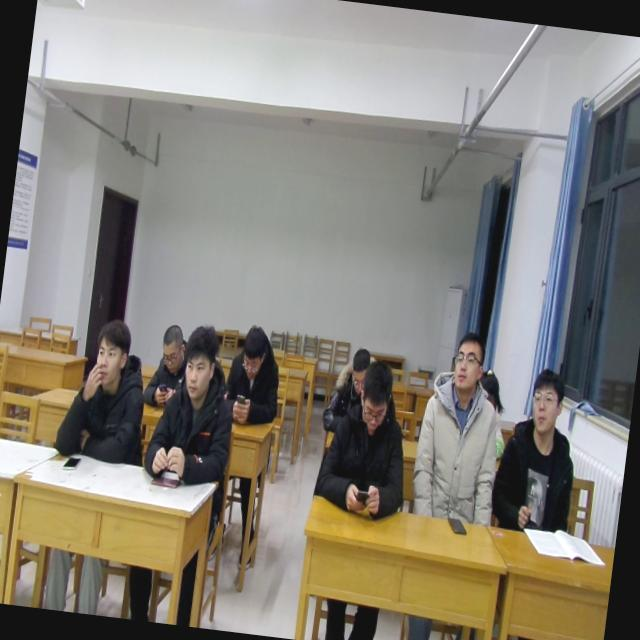bow: (320, 344, 378, 436), (139, 320, 193, 408)
down: (174, 316, 223, 403), (352, 356, 399, 440), (237, 318, 272, 378), (344, 344, 374, 400), (156, 320, 188, 372)
lookup: (89, 314, 134, 394), (524, 362, 570, 437), (448, 330, 488, 392)
sit: (407, 326, 515, 530), (138, 318, 246, 495), (312, 354, 418, 524), (488, 360, 588, 534), (51, 312, 156, 470), (221, 321, 288, 428)
